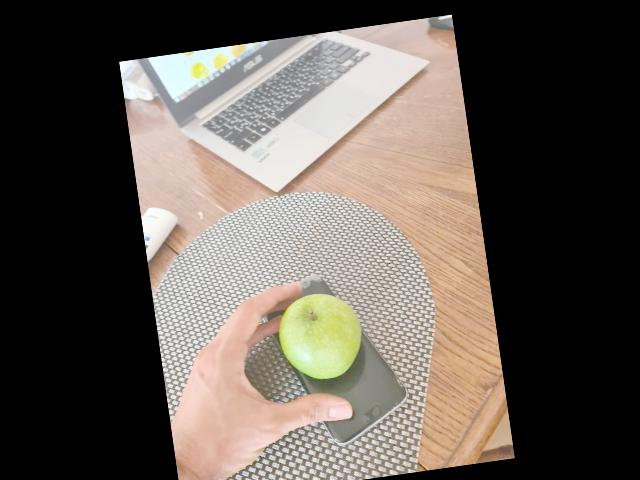apple: (279, 291, 367, 381)
